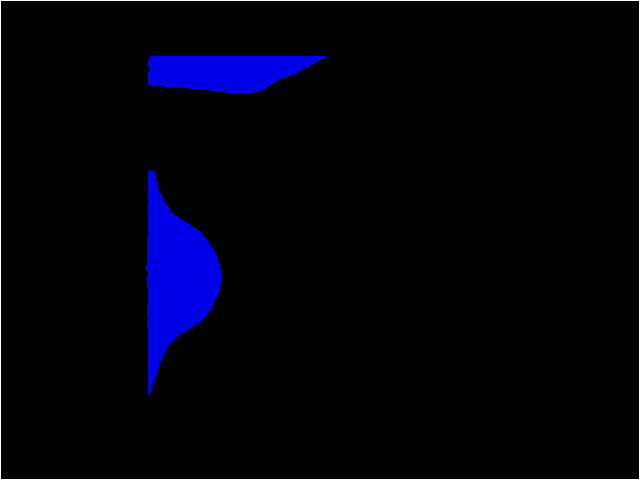defect: (146, 168, 222, 396), (146, 54, 325, 95)
